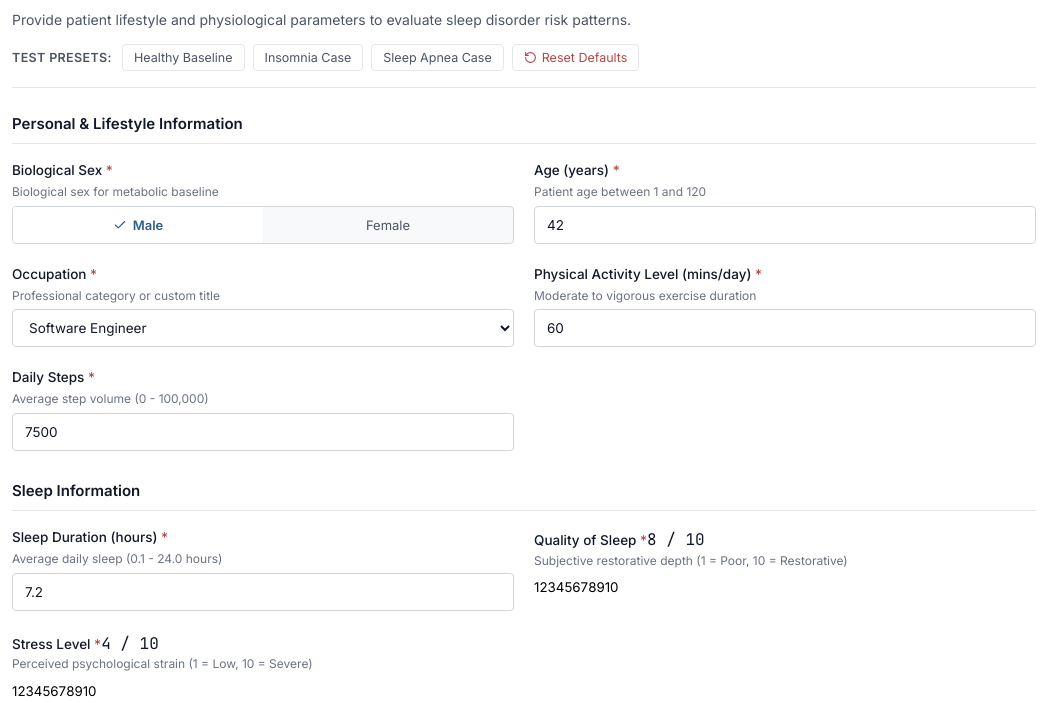
Scenario: PredictionForm Component Tests › loads test presets when clicking sample preset buttons
The width and height of the screenshot is (1048, 703).
Click the button "Sleep Apnea Case".
click(438, 58)  # box x1=371 y1=44 x2=504 y2=71
(page scrolled)
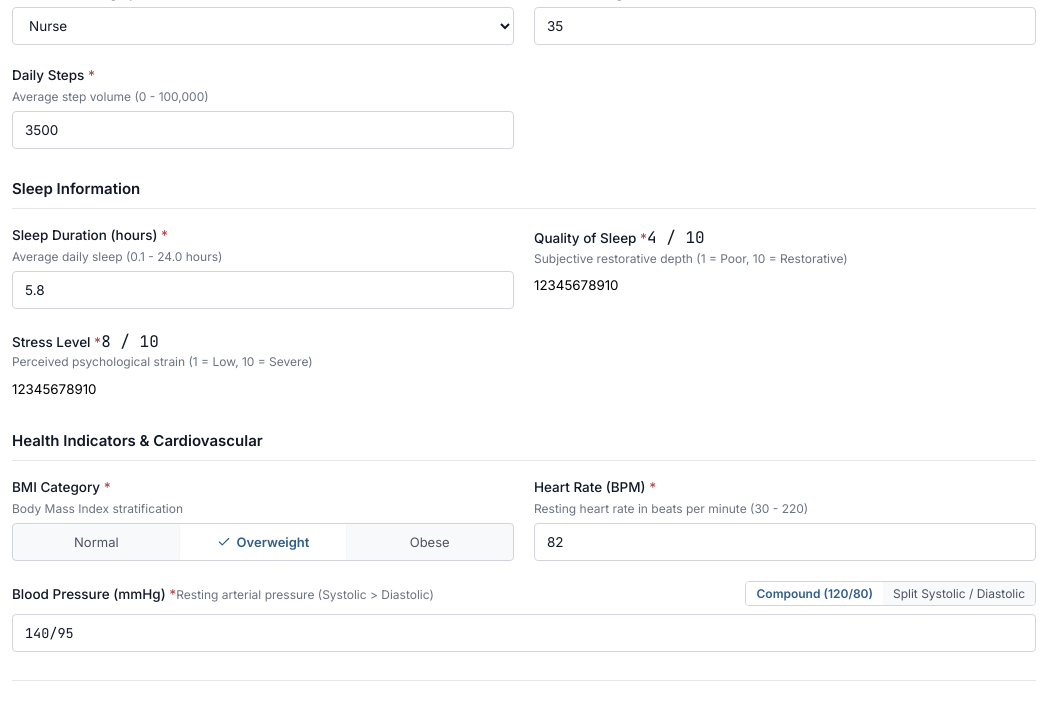
Check: the field labelled "Blood Pressure (mmHg) *" holds "140/95", box x1=12 y1=614 x2=1036 y2=652
